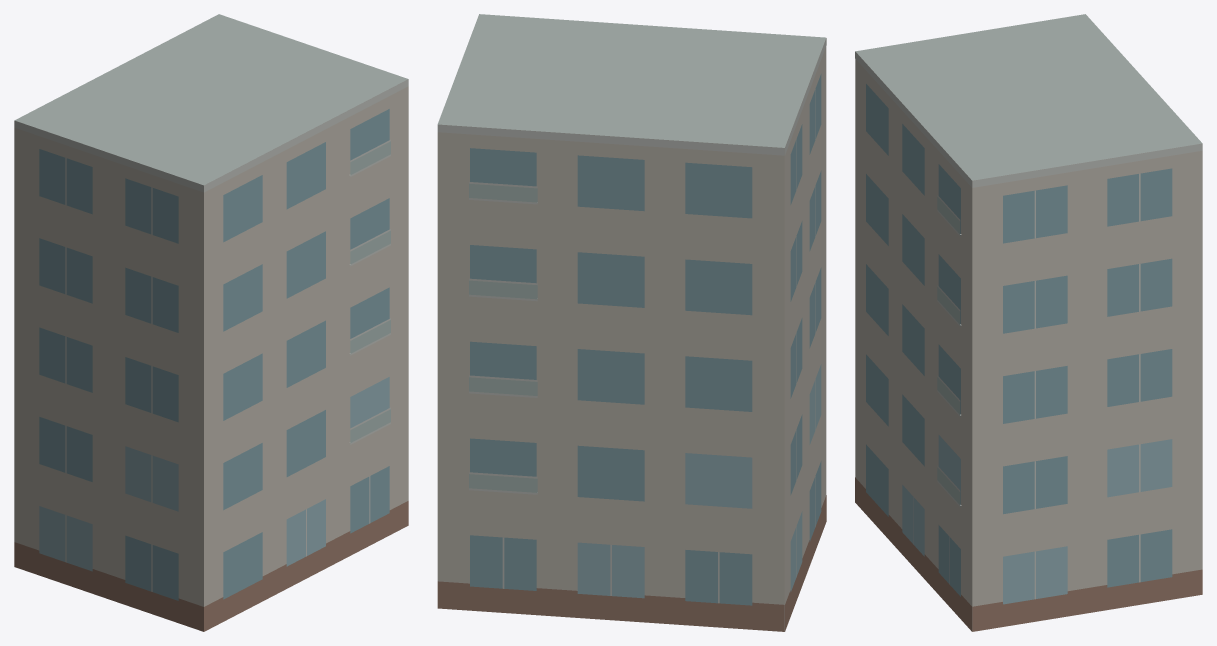
The model's file is residential-44a712d5-48e4-4e75-a694-9e8aaadd105e.glb.
The picture shows the model from 3 angles, left to right: view 1: azimuth 30°, elevation 25°; view 2: azimuth 150°, elevation 25°; view 3: azimuth 270°, elevation 25°; orthographic projection. The views are drawn at different scales.
Visible parts, largest first — view 1: residential-44a712d5-48e4-4e75-a694-9e8aaadd105e.tmp; view 2: residential-44a712d5-48e4-4e75-a694-9e8aaadd105e.tmp; view 3: residential-44a712d5-48e4-4e75-a694-9e8aaadd105e.tmp.
Boxes of the visible parts, x1,y1,x2,y2 form: residential-44a712d5-48e4-4e75-a694-9e8aaadd105e.tmp: (14,14,408,631); residential-44a712d5-48e4-4e75-a694-9e8aaadd105e.tmp: (437,14,826,631); residential-44a712d5-48e4-4e75-a694-9e8aaadd105e.tmp: (855,14,1202,631).
Bounding box in the file's own units: 12.1 × 15.25 × 10.65.
